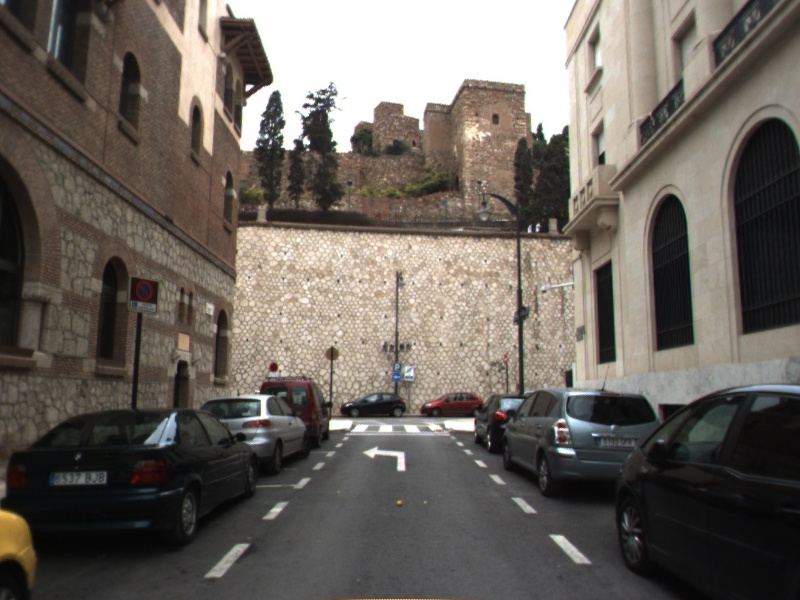LEFT: (361, 444, 407, 473)
